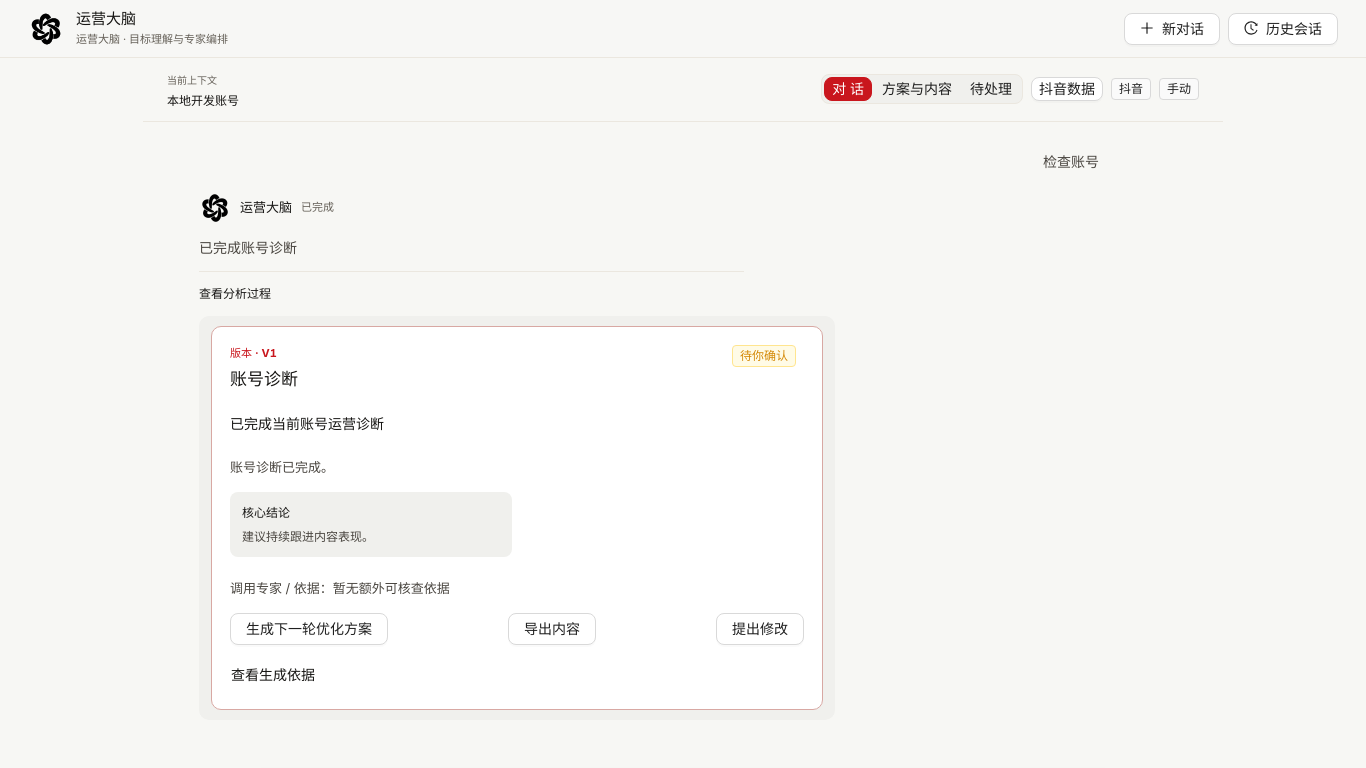
Test case: BrainHome V3 conversation projection › executes the server-advertised next action and retains safe failure feedback
Click the button "生成下一轮优化方案": click(309, 629) top-left (230, 613), bottom-right (388, 645)
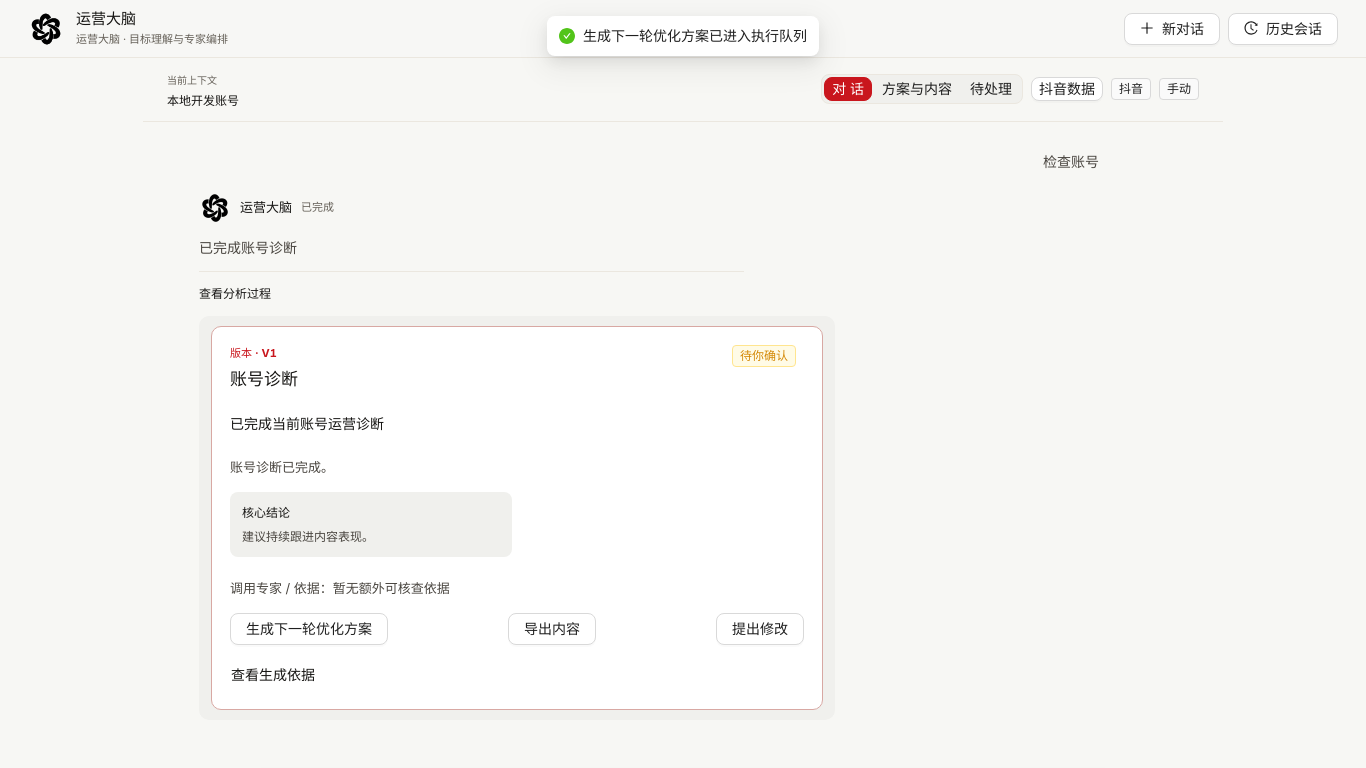
Now the text "生成下一轮优化方案已进入执行队列" is shown, box top-left (583, 25), bottom-right (807, 47)
Click the button "生成下一轮优化方案": click(309, 629) top-left (230, 613), bottom-right (388, 645)
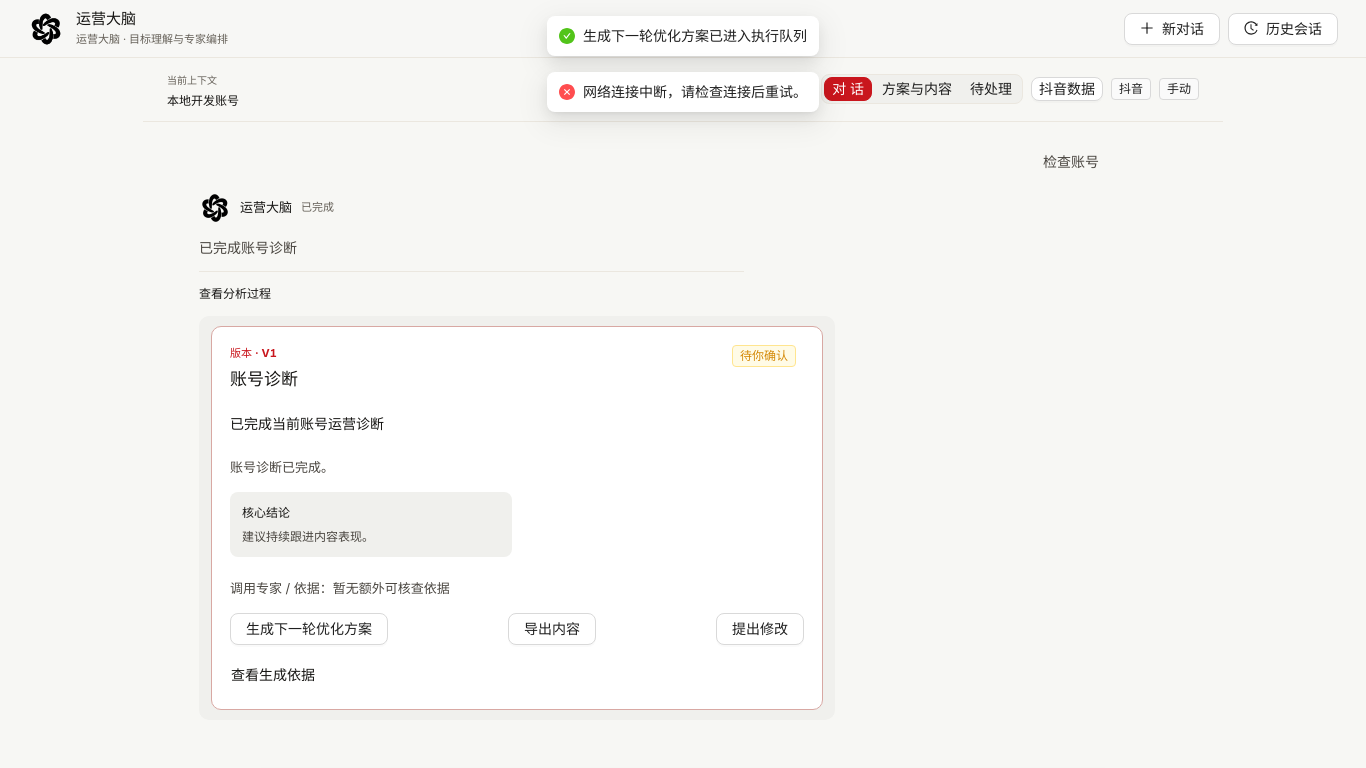
Now the text "网络连接中断，请检查连接后重试。" is shown, box top-left (583, 81), bottom-right (807, 103)
